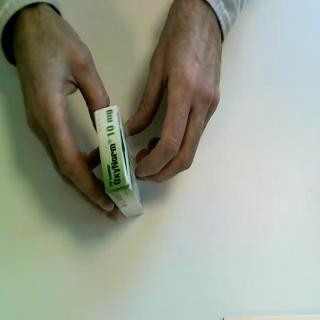oxynorm10mg: (93, 103, 146, 220)
